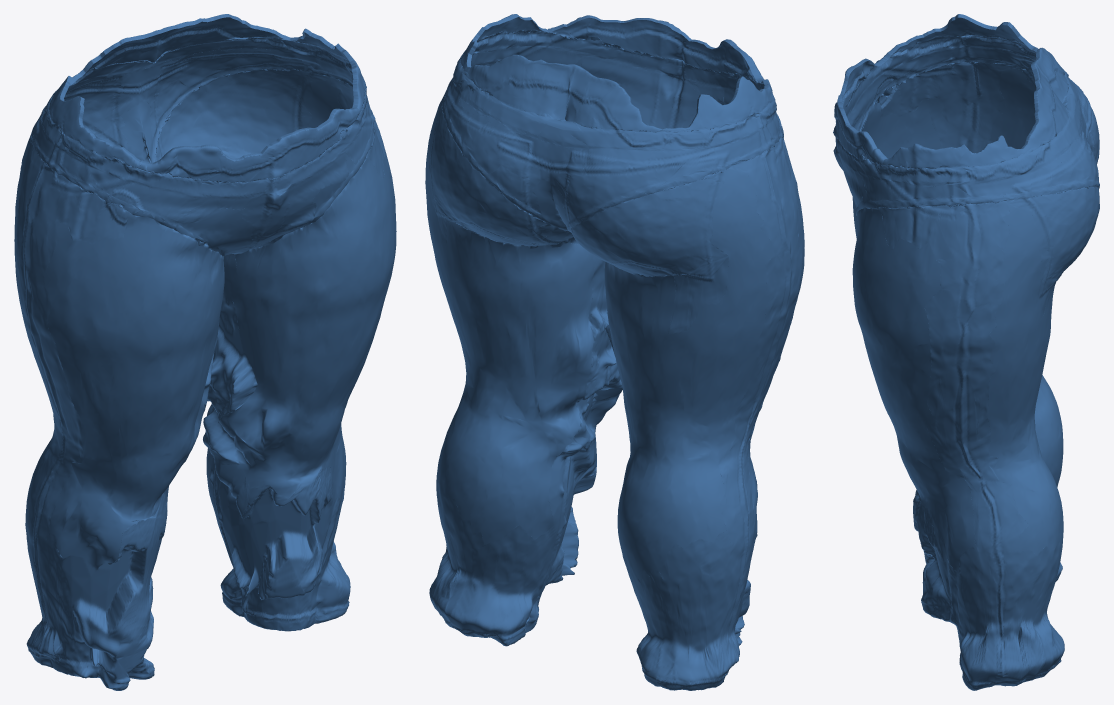
File: bottom_f_jeans.glb
3 views of the same model, side by side, from view 1: azimuth 30°, elevation 25°; view 2: azimuth 150°, elevation 25°; view 3: azimuth 270°, elevation 25° (orthographic). The views are drawn at different scales.
Parts seen in each view (by area): view 1: bottom_f_jeans; view 2: bottom_f_jeans; view 3: bottom_f_jeans.
Part boxes in pixels (box(x1,y1,x2,y2)): bottom_f_jeans: box(14, 14, 396, 690); bottom_f_jeans: box(425, 14, 804, 690); bottom_f_jeans: box(833, 14, 1099, 690).
Bounding box in the file's own units: 0.5132 × 0.8226 × 0.3533.
Materials: 1 (1 with a texture image).
